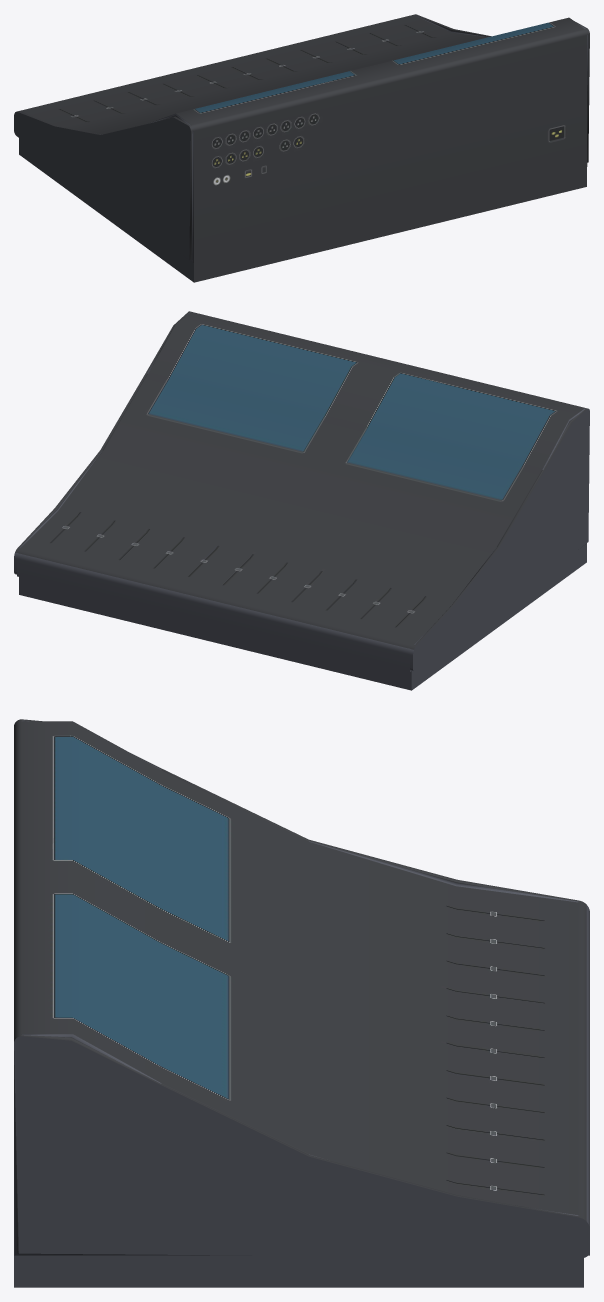
Rendered from digico-s21.glb.
3 renders of one model, top to bottom at view 1: azimuth 30°, elevation 25°; view 2: azimuth 150°, elevation 25°; view 3: azimuth 270°, elevation 25°, orthographic. The views are drawn at different scales.
Parts seen in each view (by area): view 1: digico-s21-body; view 2: digico-s21-body; view 3: digico-s21-body.
Boxes of the visible parts, x1,y1,x2,y2 form: digico-s21-body: (14, 14, 589, 282); digico-s21-body: (14, 311, 589, 690); digico-s21-body: (14, 719, 589, 1287).
Size of the model in its own units: 0.763 by 0.295 by 0.586.
Materials: 1 (1 with a texture image).
